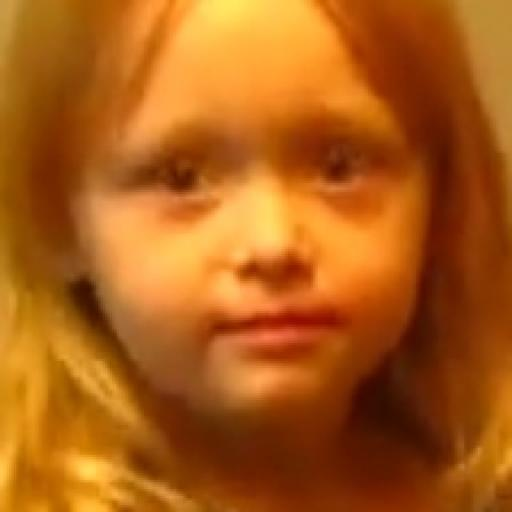Autism: (48, 12, 472, 453)
